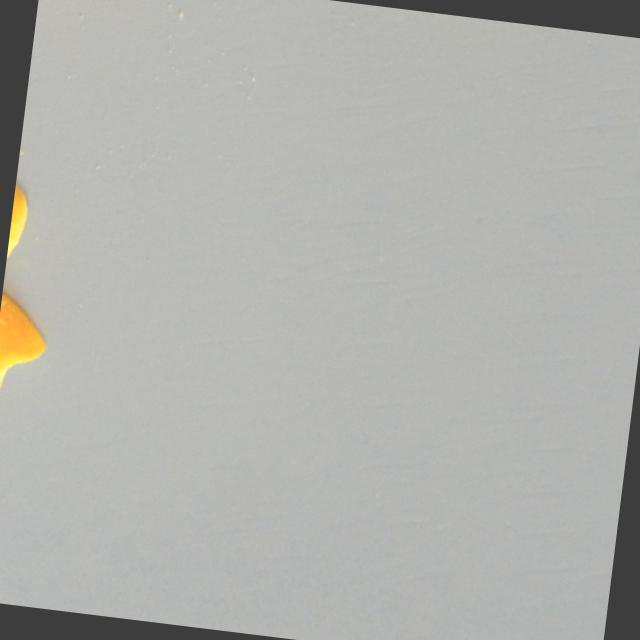dañado: (0, 283, 53, 402), (2, 162, 38, 286)
